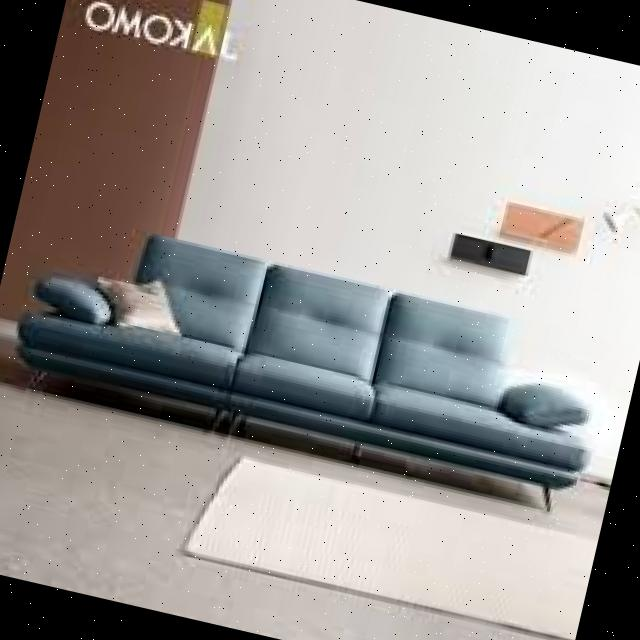Sofa: (0, 194, 638, 557)
